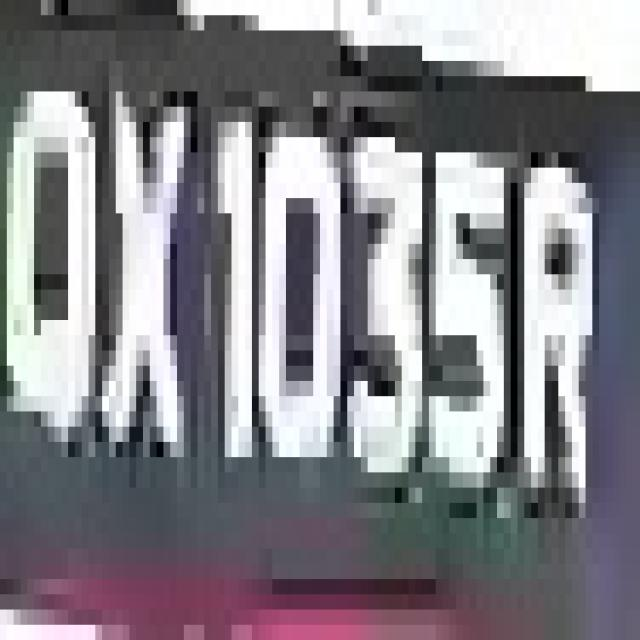0: (238, 107, 361, 518)
1: (197, 61, 252, 549)
3: (327, 122, 429, 503)
5: (408, 122, 511, 488)
Q: (7, 46, 109, 472)
R: (504, 152, 613, 518)
X: (96, 46, 204, 472)
